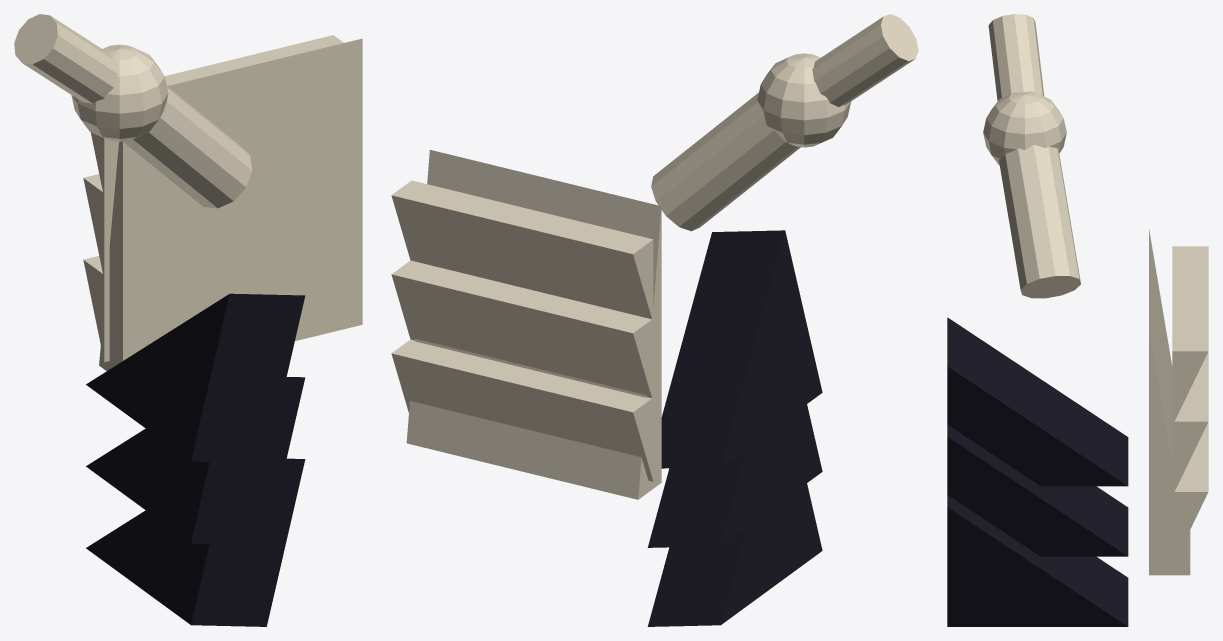
Rendered from BoneArmorLeftUpperArm.obj.
3 renders of one model, left to right at view 1: azimuth 30°, elevation 25°; view 2: azimuth 150°, elevation 25°; view 3: azimuth 270°, elevation 25°, orthographic. The views are drawn at different scales.
Parts seen in each view (by area): view 1: BoneArmorLeftUpperArm; view 2: BoneArmorLeftUpperArm; view 3: BoneArmorLeftUpperArm.
Boxes of the visible parts, x1,y1,x2,y2 form: BoneArmorLeftUpperArm: (14, 14, 362, 626); BoneArmorLeftUpperArm: (391, 14, 918, 626); BoneArmorLeftUpperArm: (947, 14, 1208, 626).
Size of the model in its own units: 1.64 by 2.3 by 1.01.
